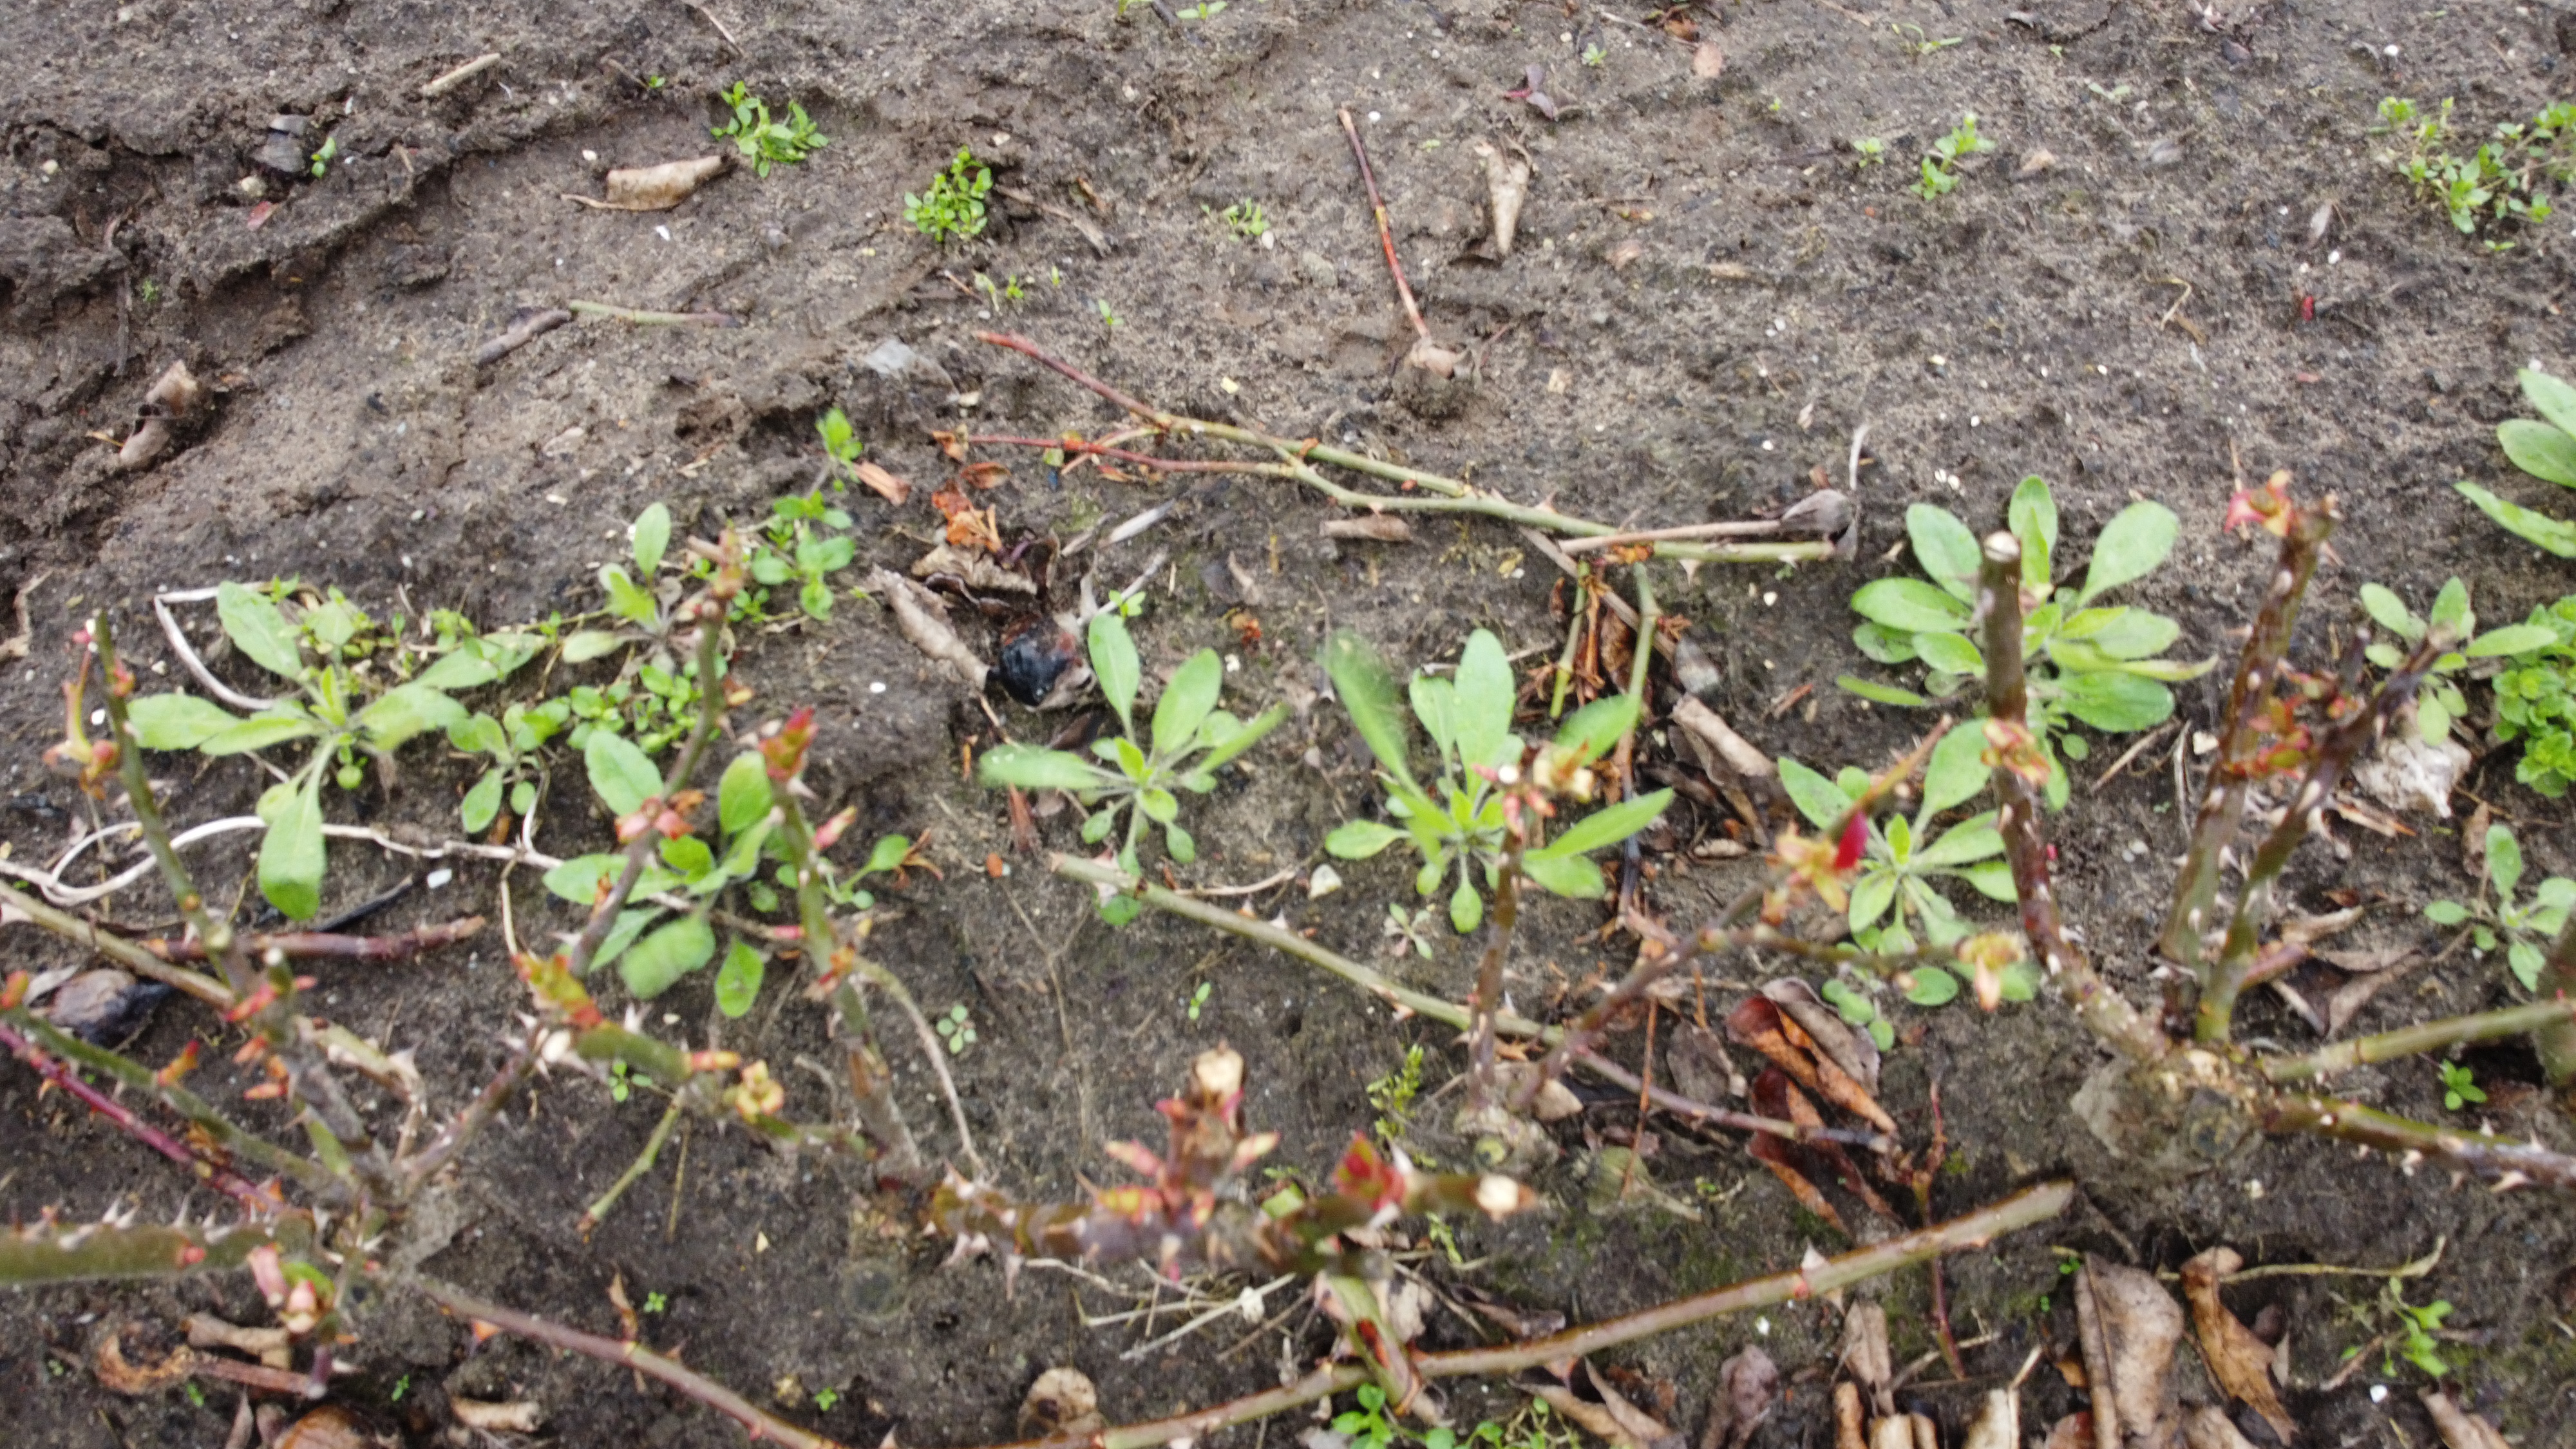Rose: (531, 908, 1431, 1366), (0, 824, 616, 1405), (2107, 511, 2558, 1251), (1463, 893, 1737, 1196)
Weed: (106, 573, 465, 895), (952, 594, 1267, 895), (1311, 625, 1631, 909), (1865, 492, 2174, 745), (575, 419, 849, 697), (1755, 736, 2054, 957), (2475, 299, 2576, 945), (573, 725, 809, 1000), (407, 678, 690, 817), (2373, 99, 2576, 239), (1819, 947, 2040, 1035), (2367, 573, 2486, 734), (1316, 1387, 1598, 1449), (699, 65, 830, 177), (2332, 1277, 2466, 1380), (879, 138, 1010, 235), (1907, 111, 1992, 203), (1378, 908, 1431, 957), (2436, 1062, 2488, 1111), (1219, 196, 1272, 237), (939, 998, 975, 1054), (310, 136, 341, 177), (1851, 134, 1884, 165), (1171, 2, 1233, 18), (1097, 297, 1125, 329), (1578, 42, 1603, 67), (814, 1385, 839, 1410), (640, 1297, 671, 1313)
